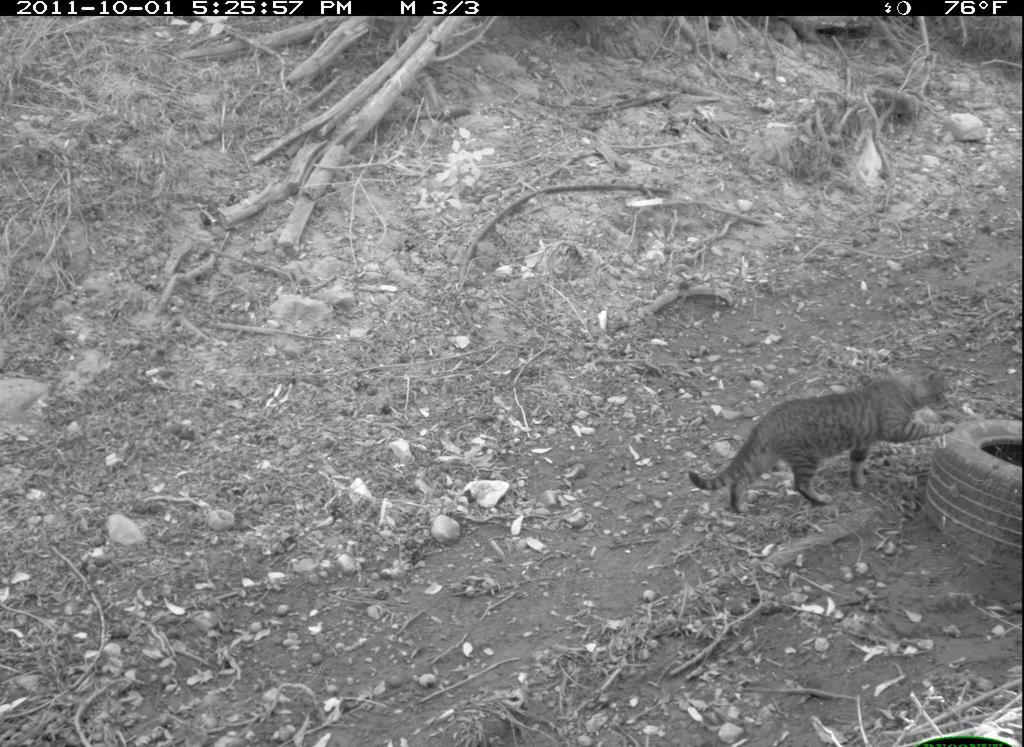cat: (684, 360, 959, 520)
